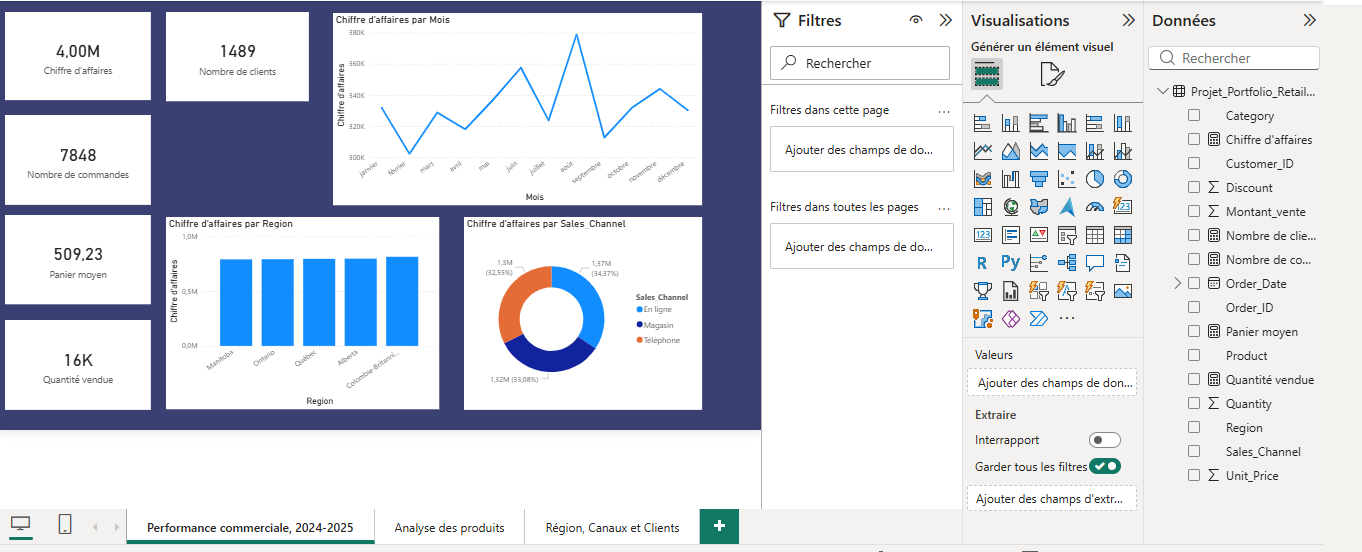

The page's visual inventory and layout, read from the dashboard file:
{"tool":"powerbi","page":{"name":"Performance commerciale, 2024-2025","canvas":[1280,720],"ordinal":0},"visuals":[{"type":"card","fields":{"Values":["Projet_Portfolio_Retail_Transactions_Sale.Chiffre d'affaires"]},"box":[10.1,18.5,245.2,147.8],"z":0},{"type":"card","fields":{"Values":["Projet_Portfolio_Retail_Transactions_Sale.Nombre de commandes"]},"box":[10.1,191.5,245.2,151.2],"z":1000},{"type":"card","fields":{"Values":["Projet_Portfolio_Retail_Transactions_Sale.Quantité vendue"]},"box":[10.1,535.9,245.2,151.2],"z":2000},{"type":"card","fields":{"Values":["Projet_Portfolio_Retail_Transactions_Sale.Panier moyen"]},"box":[10.1,359.5,245.2,149.5],"z":3000},{"type":"card","fields":{"Values":["Projet_Portfolio_Retail_Transactions_Sale.Nombre de clients"]},"box":[280.5,18.5,240.2,149.5],"z":4000},{"type":"lineChart","fields":{"Y":["Projet_Portfolio_Retail_Transactions_Sale.Chiffre d'affaires"],"Category":["Projet_Portfolio_Retail_Transactions_Sale.Order_Date.Variation.Hiérarchie de dates.Mois"]},"box":[561,20.2,619.8,322.5],"z":5000},{"type":"clusteredColumnChart","fields":{"Category":["Projet_Portfolio_Retail_Transactions_Sale.Region"],"Y":["Projet_Portfolio_Retail_Transactions_Sale.Chiffre d'affaires"]},"box":[280.5,362.8,458.6,322.5],"z":6000},{"type":"donutChart","fields":{"Category":["Projet_Portfolio_Retail_Transactions_Sale.Sales_Channel"],"Y":["Projet_Portfolio_Retail_Transactions_Sale.Chiffre d'affaires"]},"box":[781.1,362.8,399.8,324.2],"z":7000}]}

Visuals, with their boxes on the page's 1280x720 design canvas (x1, y1, x2, y2). These are canvas units, not pixel positions in the 1362x552 screenshot, which may show the page scaled, cropped or inside an application window:
card - Projet_Portfolio_Retail_Transactions_Sale.Chiffre d'affaires: x1=10 y1=18 x2=255 y2=166
card - Projet_Portfolio_Retail_Transactions_Sale.Nombre de commandes: x1=10 y1=192 x2=255 y2=343
card - Projet_Portfolio_Retail_Transactions_Sale.Quantité vendue: x1=10 y1=536 x2=255 y2=687
card - Projet_Portfolio_Retail_Transactions_Sale.Panier moyen: x1=10 y1=360 x2=255 y2=509
card - Projet_Portfolio_Retail_Transactions_Sale.Nombre de clients: x1=280 y1=18 x2=521 y2=168
lineChart - Projet_Portfolio_Retail_Transactions_Sale.Chiffre d'affaires x Projet_Portfolio_Retail_Transactions_Sale.Order_Date.Variation.Hiérarchie de dates.Mois: x1=561 y1=20 x2=1181 y2=343
clusteredColumnChart - Projet_Portfolio_Retail_Transactions_Sale.Region x Projet_Portfolio_Retail_Transactions_Sale.Chiffre d'affaires: x1=280 y1=363 x2=739 y2=685
donutChart - Projet_Portfolio_Retail_Transactions_Sale.Sales_Channel x Projet_Portfolio_Retail_Transactions_Sale.Chiffre d'affaires: x1=781 y1=363 x2=1181 y2=687
